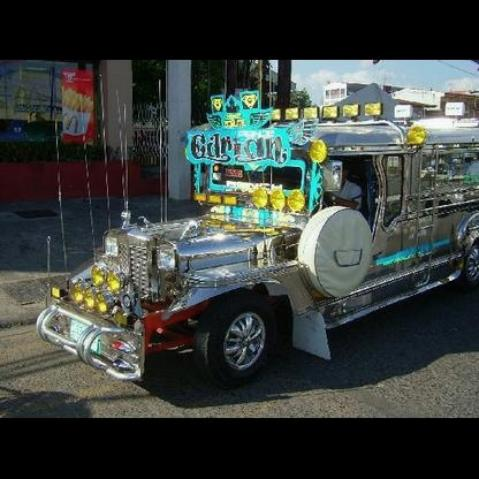jeepney: (50, 103, 479, 386)
